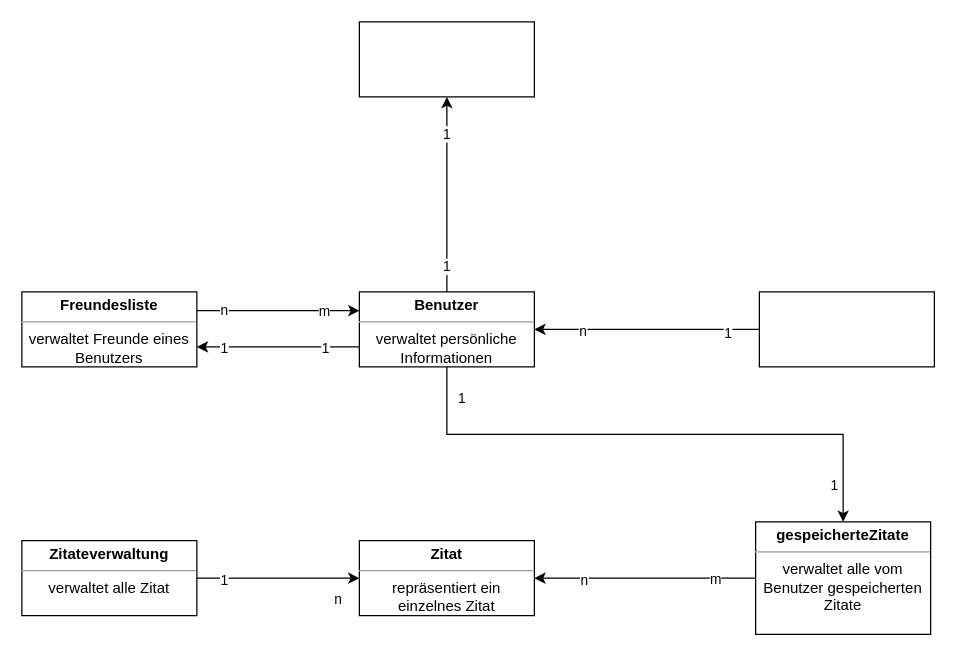
Image size: 956x656. Some labels were removed from this diagram. Here are the shapes that lost their labels. From the top down, the centre of each, then its label:
At (x=446, y=59): "Benutzereinstellungen verwaltet die Einstellungen".
At (x=846, y=329): "Benutzerverwaltung verwaltet alle registrierten Benutzer".
